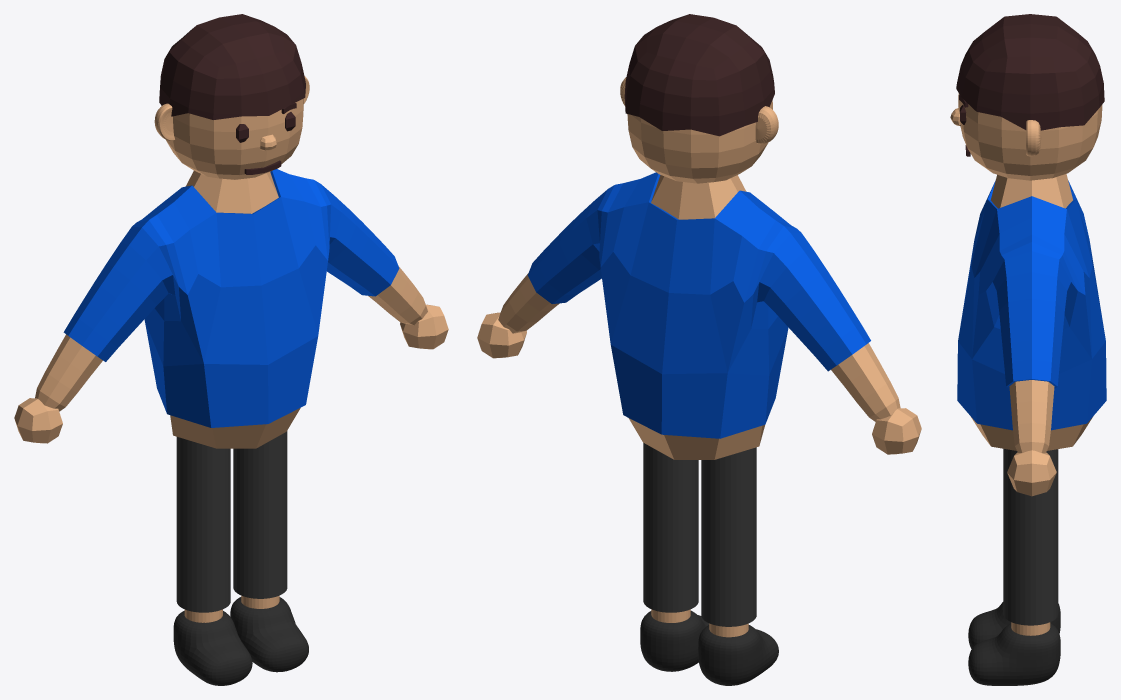
File: human.glb
3 views of the same model, side by side, from view 1: azimuth 30°, elevation 25°; view 2: azimuth 150°, elevation 25°; view 3: azimuth 270°, elevation 25° (orthographic). The views are drawn at different scales.
Visible parts, largest first — view 1: clothes, legs, hair, body, shoes, head, hand, ear; view 2: clothes, legs, hair, body, shoes, head, hand, ear; view 3: clothes, hair, legs, head, body, shoes, hand, ear.
Boxes of the visible parts, left/top/right/bottom form: clothes: left=63, top=169, right=399, bottom=427; legs: left=176, top=431, right=287, bottom=622; hair: left=159, top=14, right=305, bottom=119; body: left=35, top=170, right=427, bottom=448; shoes: left=173, top=597, right=308, bottom=685; head: left=166, top=98, right=303, bottom=179; hand: left=14, top=304, right=448, bottom=443; ear: left=154, top=76, right=309, bottom=140; clothes: left=527, top=172, right=870, bottom=438; legs: left=643, top=443, right=756, bottom=637; hair: left=624, top=14, right=774, bottom=136; body: left=498, top=175, right=900, bottom=459; shoes: left=640, top=610, right=778, bottom=685; head: left=627, top=100, right=772, bottom=183; hand: left=477, top=312, right=921, bottom=454; ear: left=620, top=77, right=778, bottom=144; clothes: left=957, top=180, right=1106, bottom=430; hair: left=956, top=14, right=1104, bottom=130; legs: left=1003, top=448, right=1058, bottom=635; head: left=958, top=93, right=1102, bottom=180; body: left=970, top=174, right=1093, bottom=453; shoes: left=968, top=602, right=1060, bottom=685; hand: left=1007, top=450, right=1056, bottom=496; ear: left=1026, top=120, right=1041, bottom=156.
Size of the model in its own units: 1.53 by 2.17 by 0.4782.
